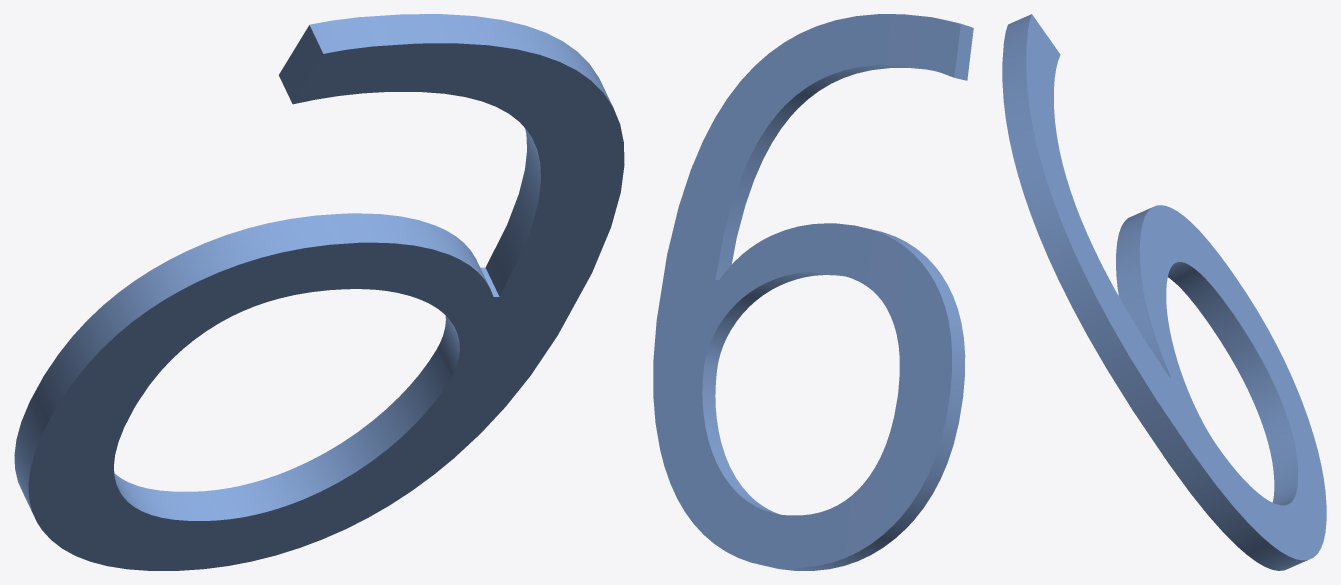
Rendered from New_Number_9.gltf.
The picture shows the model from 3 angles, left to right: view 1: azimuth 30°, elevation 25°; view 2: azimuth 150°, elevation 25°; view 3: azimuth 270°, elevation 25°; orthographic projection. The views are drawn at different scales.
Parts seen in each view (by area): view 1: Part 576; view 2: Part 576; view 3: Part 576.
Part boxes in pixels (x1,y1,x2,y2): Part 576: (14,14,624,570); Part 576: (653,14,973,570); Part 576: (1002,14,1326,570).
Size of the model in its own units: 0.00375 by 0.00517 by 0.00304.
